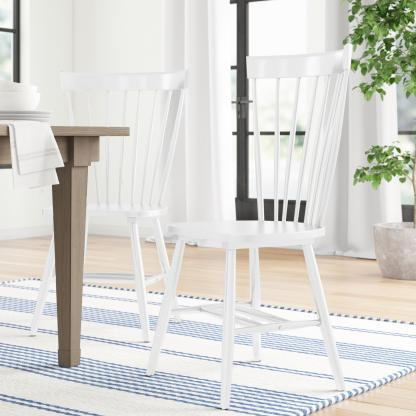chair: (168, 30, 369, 416), (19, 62, 192, 347)
